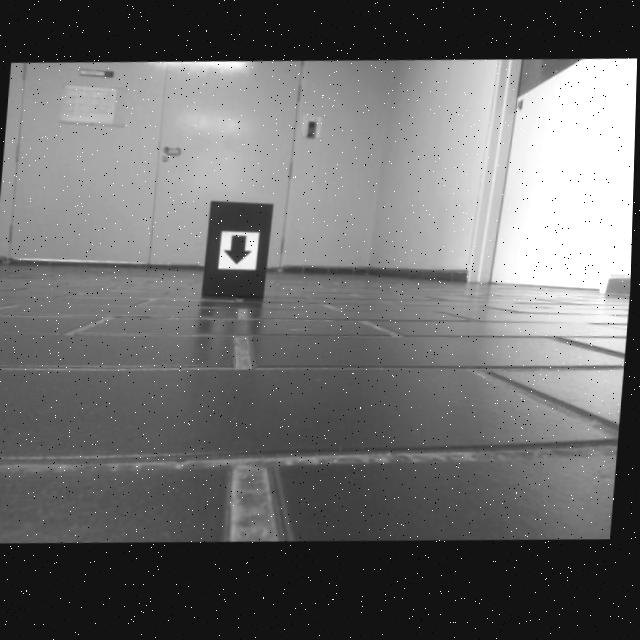DOWN: (224, 237, 255, 269)
